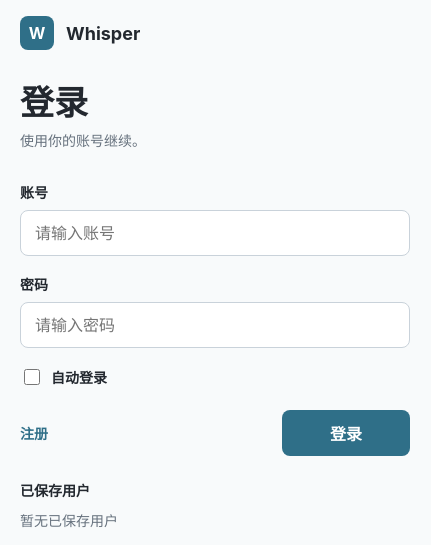
it: LoginPanel › disables submission while password login is pending
The image size is (431, 545).
In the field labelled "账号": (215, 233) [20, 210, 410, 256], type "12345678"
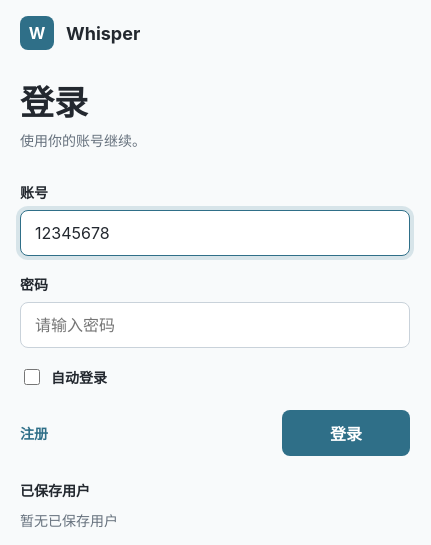
In the password field labelled "密码": (215, 325) [20, 302, 410, 348], type "secret"
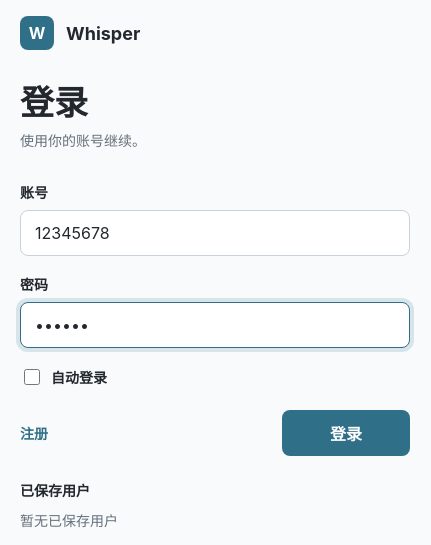
Click the button "登录": (346, 433) [282, 410, 410, 456]
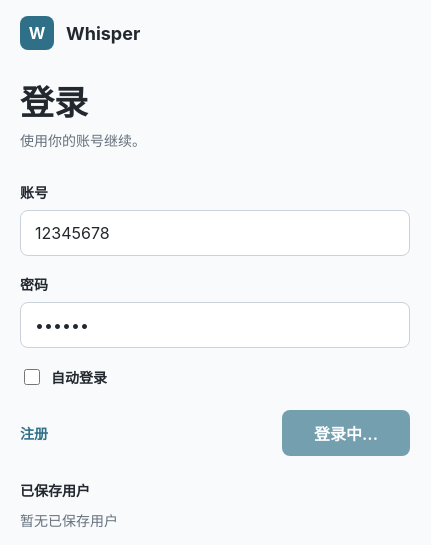
Expected: the button "登录中..." is disabled, [282, 410, 410, 456]
